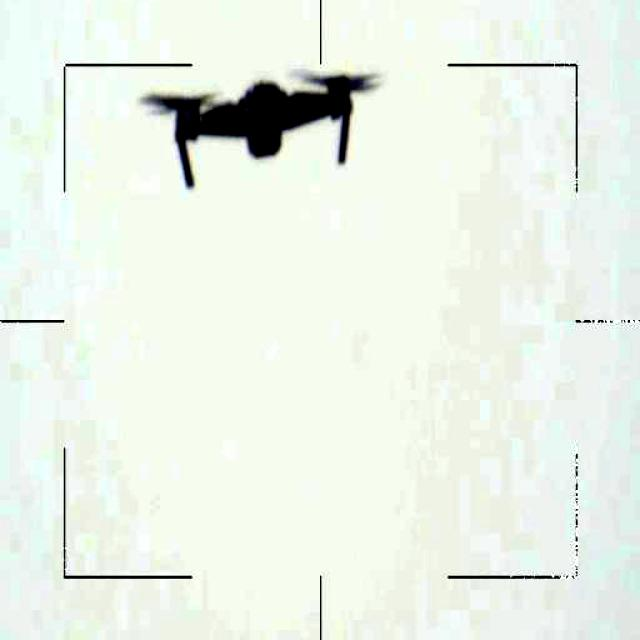bird: (128, 58, 396, 196)
